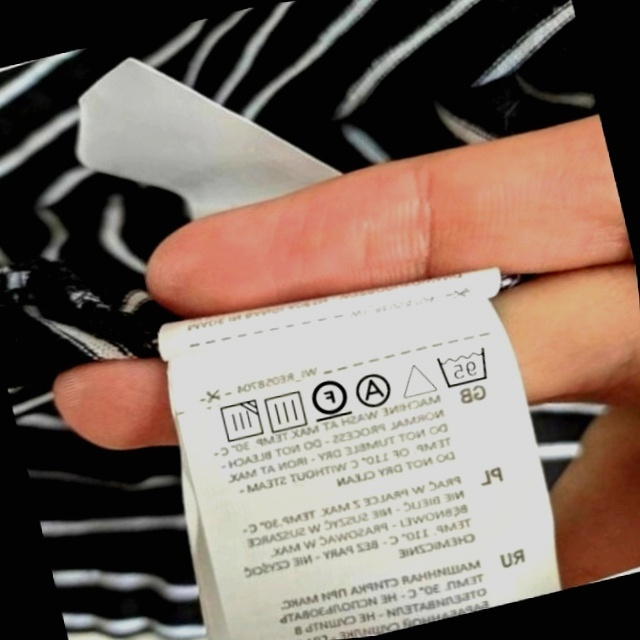95C: (432, 342, 495, 392)
bleach: (396, 355, 438, 403)
drip_dry: (260, 386, 311, 436)
drip_dry_in_shade: (213, 396, 266, 448)
dry_clean: (352, 368, 397, 412)
dry_clean_petrol_only: (305, 372, 353, 425)
